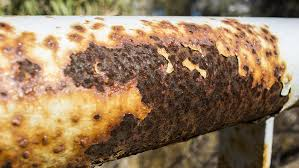rust: (59, 41, 283, 120), (87, 127, 165, 164)
